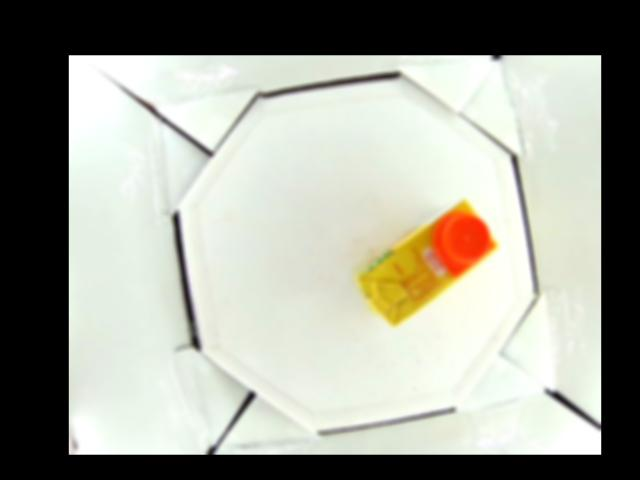Bottle: (355, 200, 500, 325)
